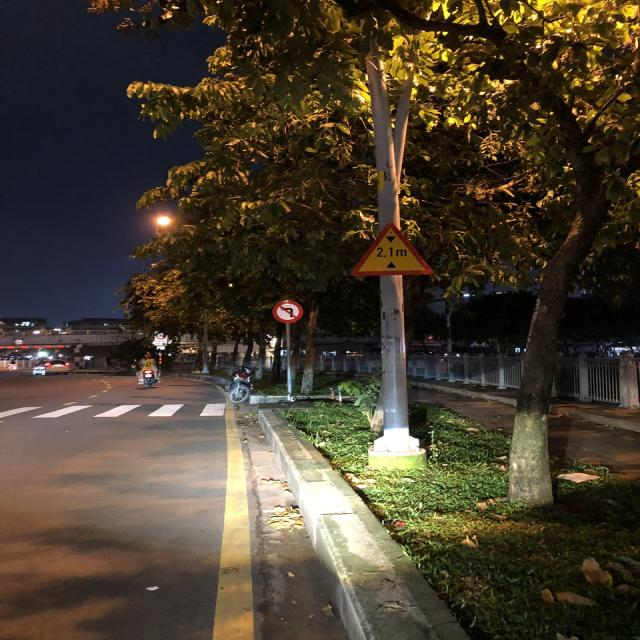Bien bao cam re trai: (269, 295, 305, 324)
Bien bao chieu cao tinh khong thuc te: (335, 218, 451, 284)
